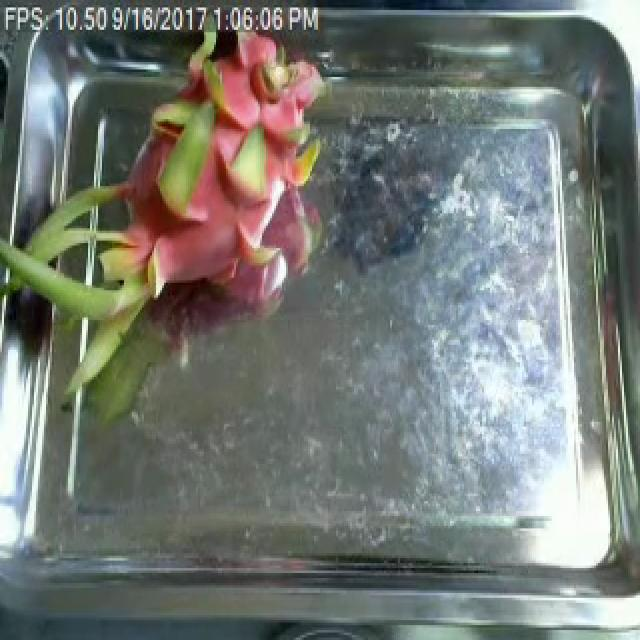fruit: (2, 5, 360, 404)
